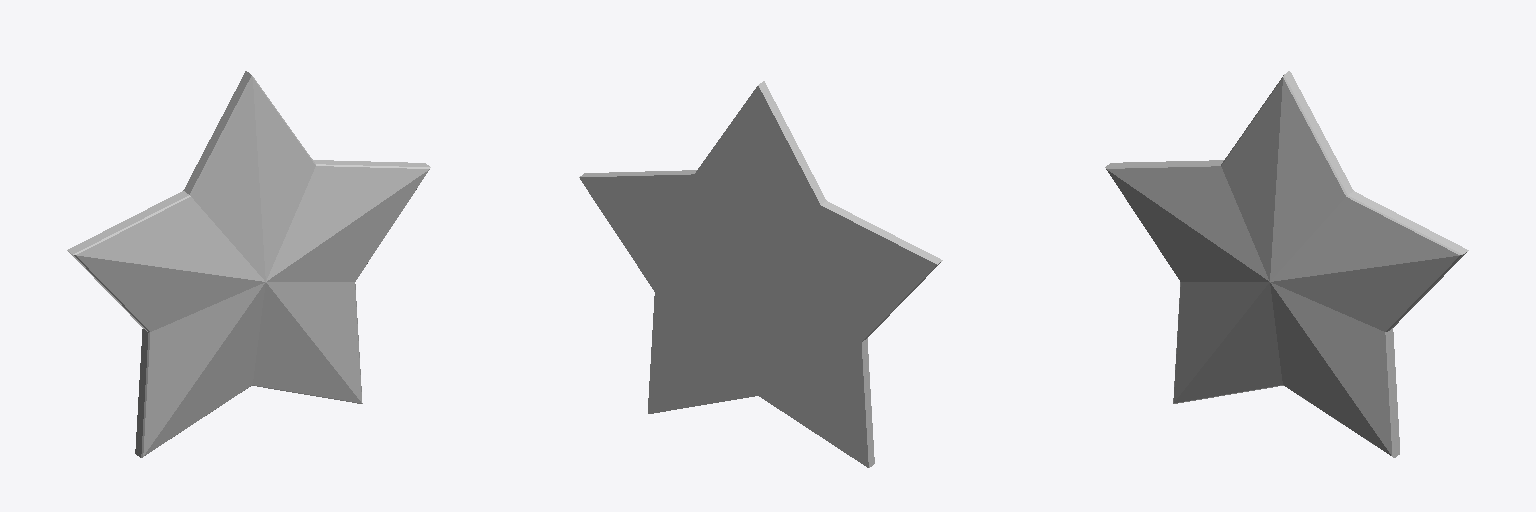
Rendered from estrella.obj.
3 renders of one model, left to right at view 1: azimuth 30°, elevation 25°; view 2: azimuth 150°, elevation 25°; view 3: azimuth 330°, elevation 25°, orthographic.
Visible parts, largest first — view 1: estrella_uv; view 2: estrella_uv; view 3: estrella_uv.
Boxes of the visible parts, x1=… form: estrella_uv: x1=67, y1=71, x2=430, y2=457; estrella_uv: x1=579, y1=81, x2=942, y2=467; estrella_uv: x1=1105, y1=71, x2=1468, y2=457.
Bounding box in the file's own units: 67.4 × 64.1 × 6.49.